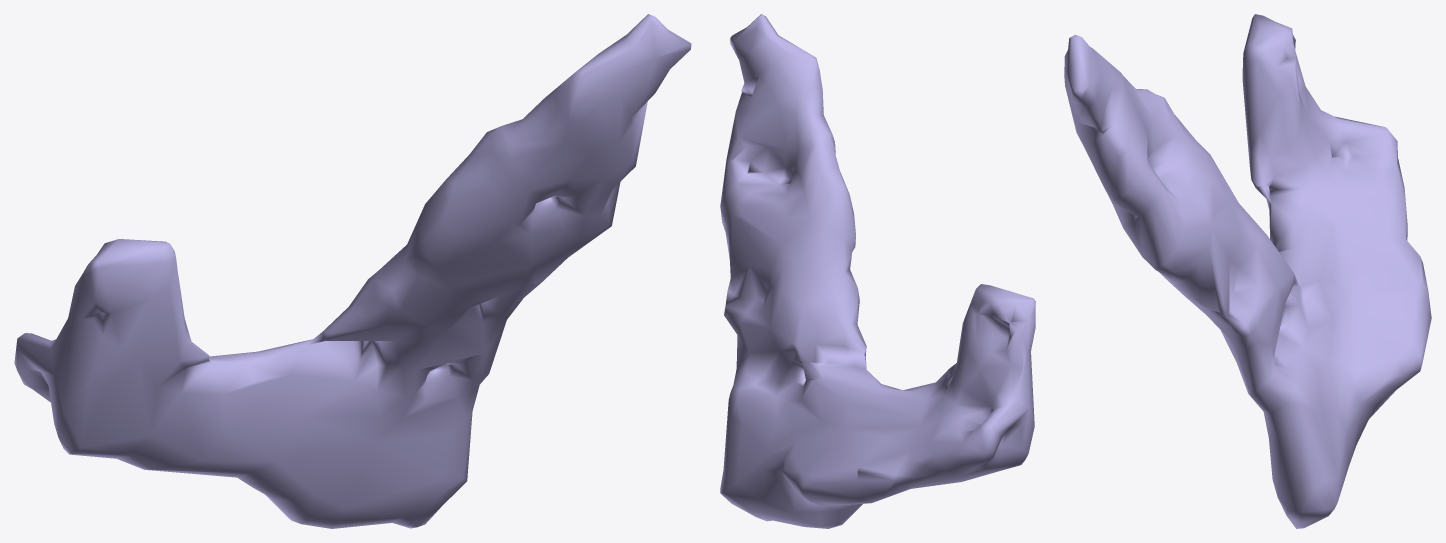
File: MigrationRock6.fbx
3 views of the same model, side by side, from view 1: azimuth 30°, elevation 25°; view 2: azimuth 150°, elevation 25°; view 3: azimuth 270°, elevation 25° (orthographic). The views are drawn at different scales.
Visible parts, largest first — view 1: WeirdRocks.005; view 2: WeirdRocks.005; view 3: WeirdRocks.005.
Boxes of the visible parts, left/top/right/bottom form: WeirdRocks.005: left=14, top=14, right=691, bottom=528; WeirdRocks.005: left=720, top=14, right=1035, bottom=528; WeirdRocks.005: left=1064, top=14, right=1431, bottom=528.
Bounding box in the file's own units: 7651 × 8007 × 4859.
